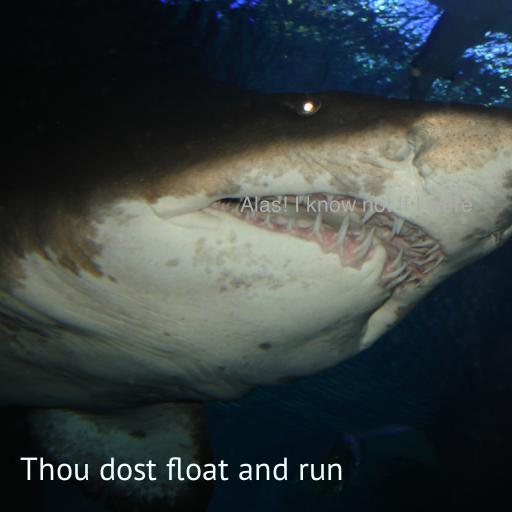Apple Chancery: (239, 196, 473, 213)
PT Sans: (20, 457, 344, 481)
